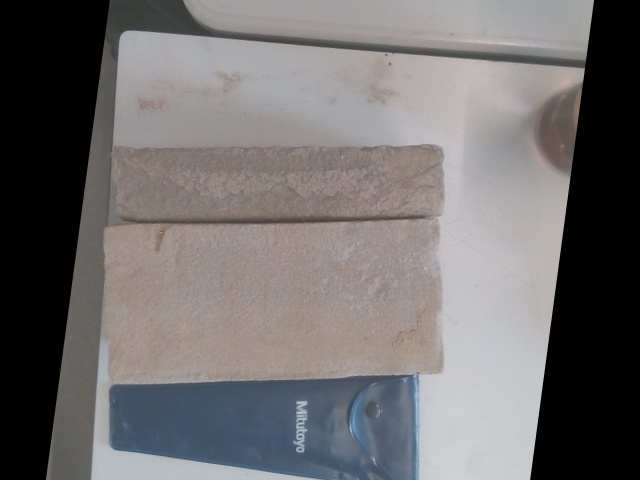brick: (109, 216, 441, 383)
